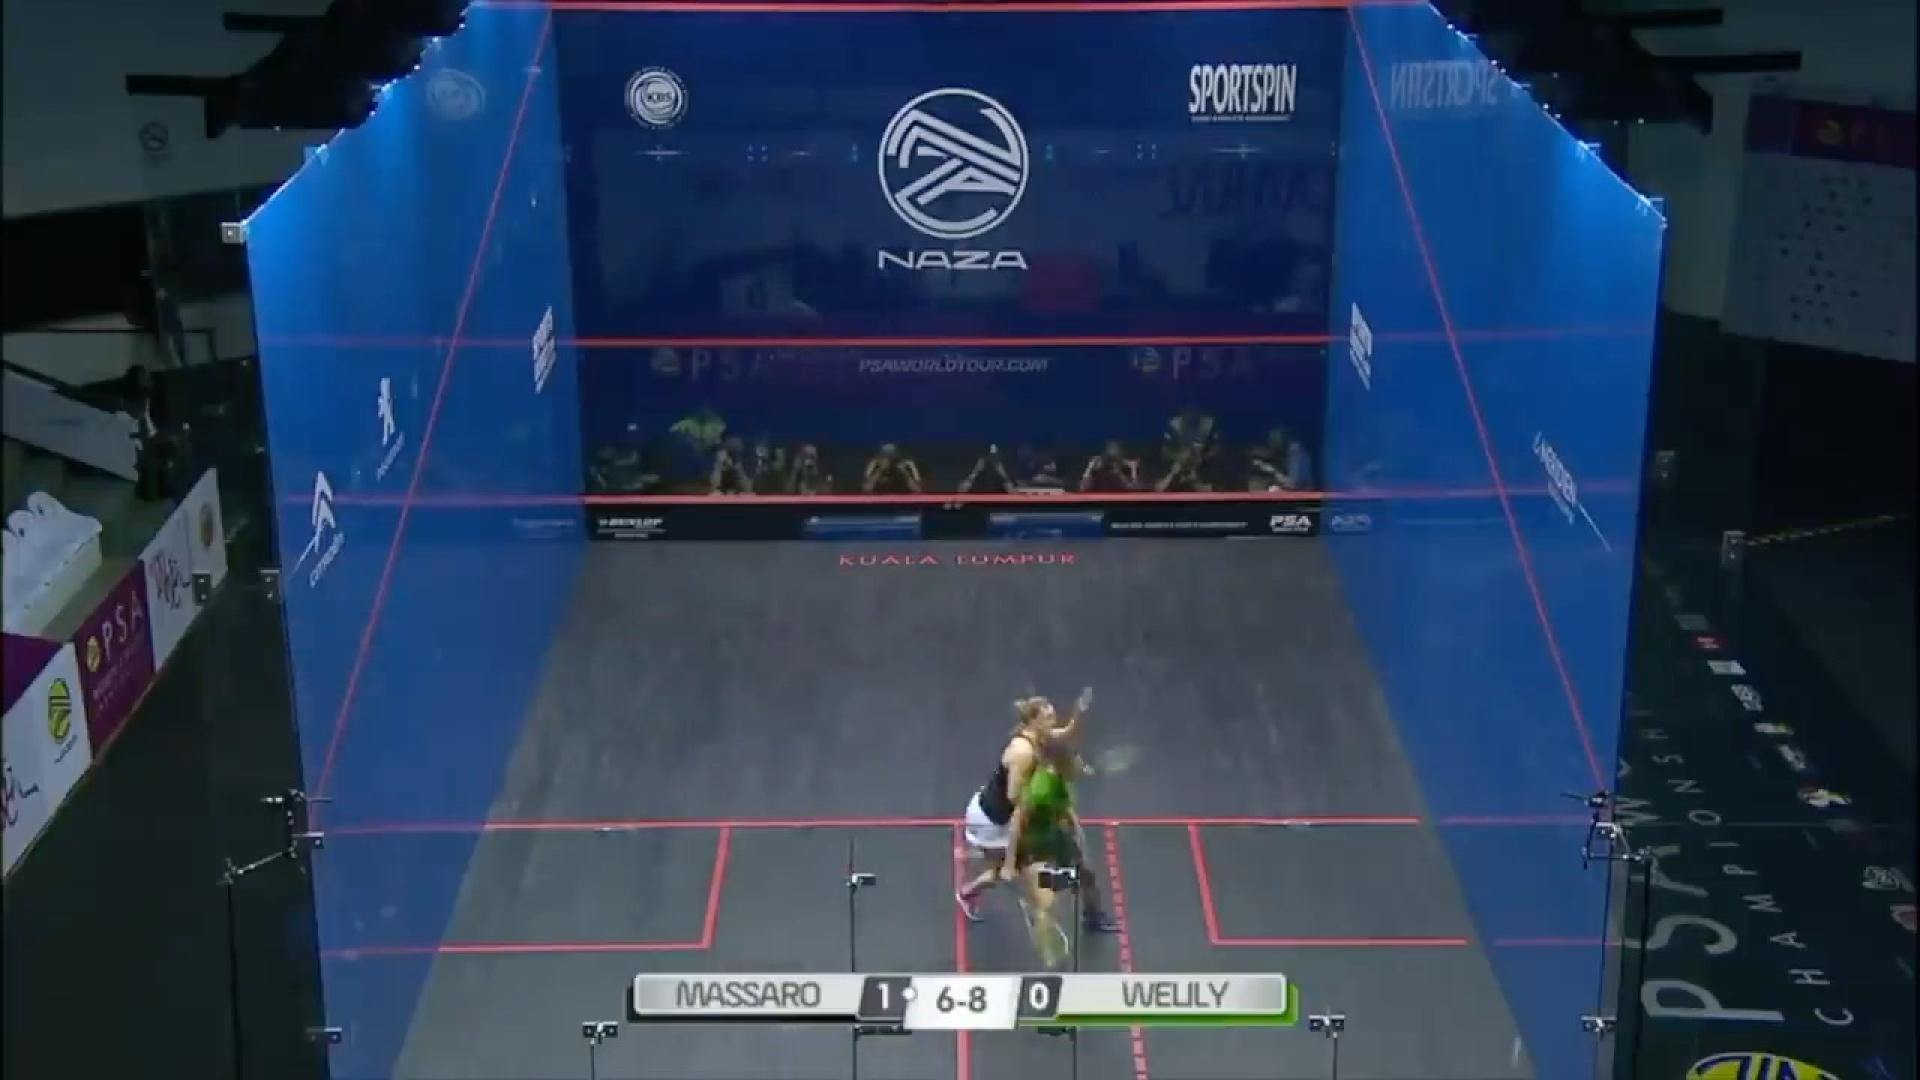Squash-Ball: (1490, 1023, 1548, 1075)
